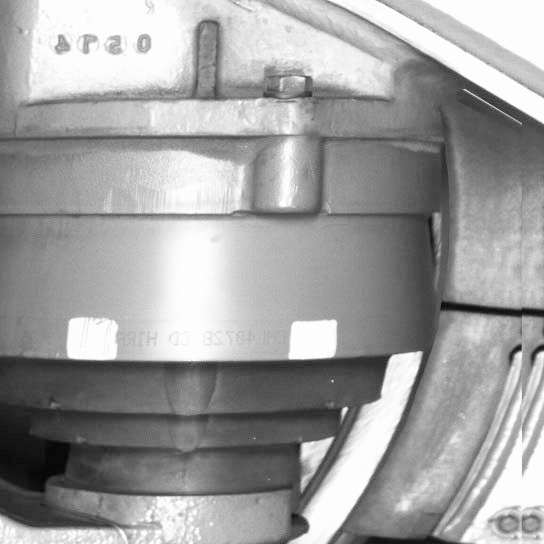ClosedKnifeSwitch: (322, 137, 520, 541)
